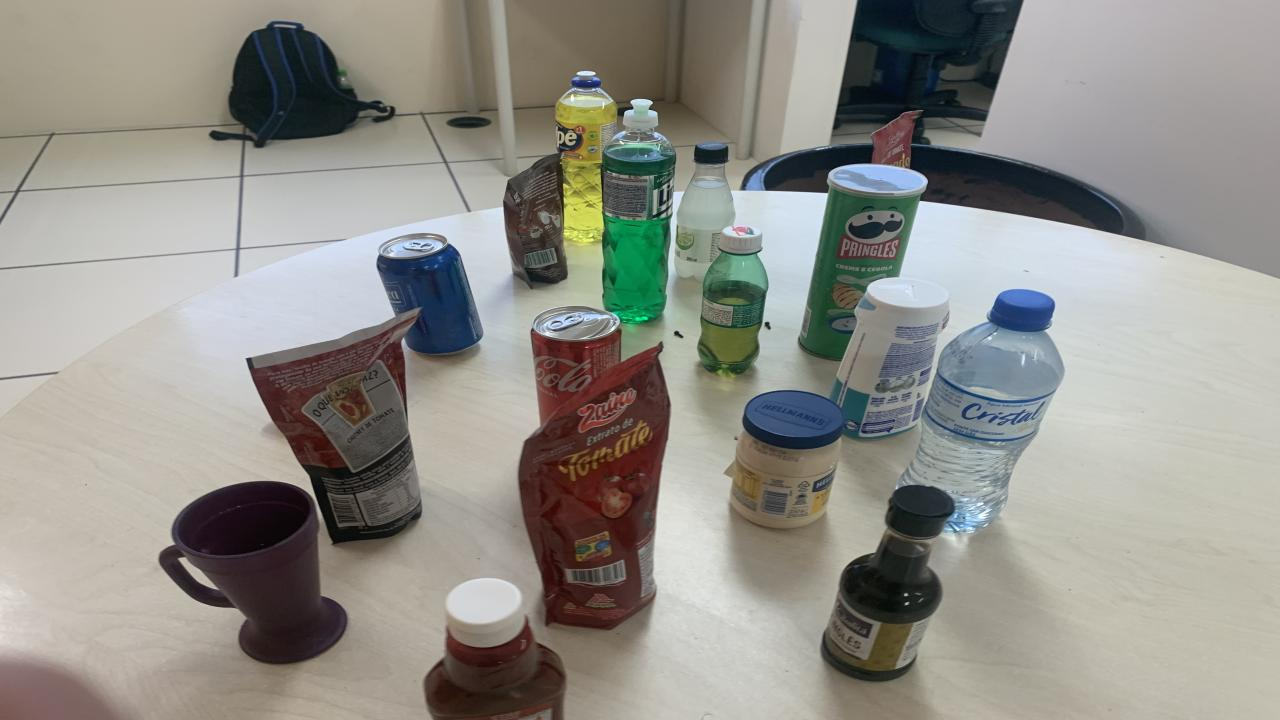Cleaner-Cleanup_Items: (830, 278, 948, 441)
Coffee-Pantry_Items: (502, 154, 568, 287)
Coke-Drinks: (530, 306, 622, 424)
Detergent-Cleanup_Items: (602, 99, 675, 322), (555, 71, 618, 242)
English_Sauce-Pantry_Items: (820, 486, 955, 681)
Guarana-Drinks: (698, 227, 768, 373)
Ketchup-Pantry_Items: (425, 578, 565, 720)
Mayonnaise-Pantry_Items: (730, 390, 845, 529)
Pringles-Snacks: (798, 163, 928, 360)
Soda-Drinks: (675, 142, 735, 279)
Tomato_Sauce-Pantry_Items: (520, 347, 670, 628), (250, 311, 420, 540), (870, 111, 920, 169)
Tonic-Drinks: (378, 232, 482, 354)
Water_Bottle-Drinks: (900, 289, 1065, 532)
